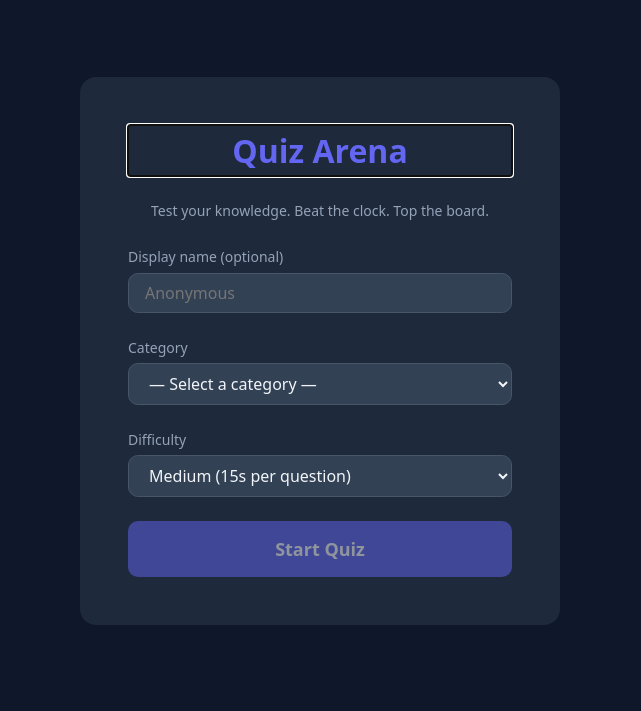
Test: Quiz flow › shows feedback after answering
Select "General Knowledge" in the dropdown labelled "Category" at [320, 384], box [128,363,512,405]
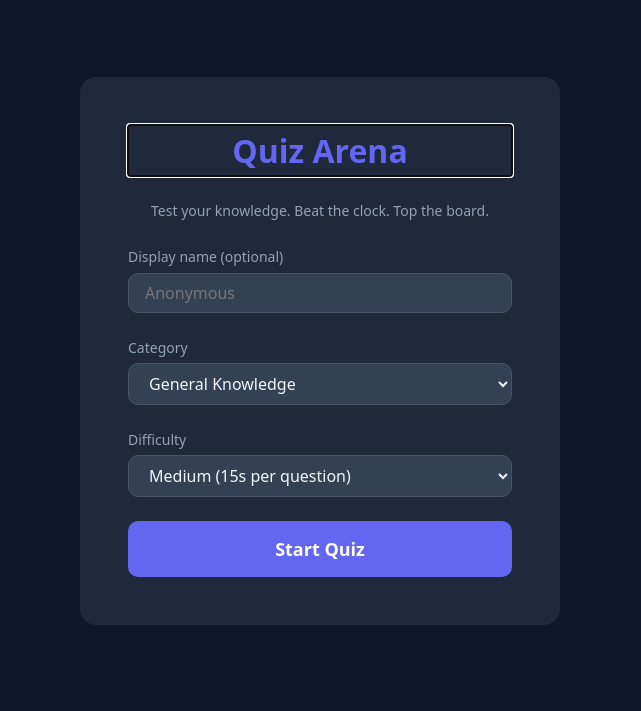
Click the button "Start Quiz" at [320, 549], box [128,521,512,577]
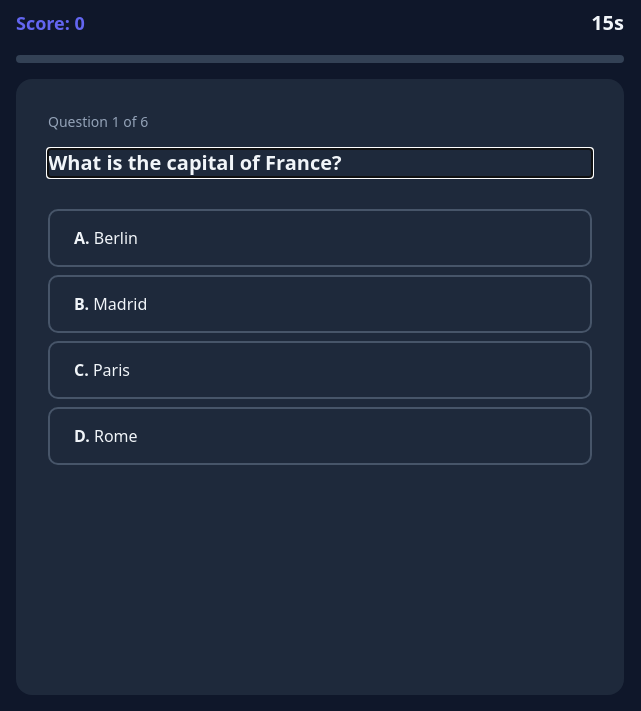
Click the button "A. Berlin" at [116, 238], box [48,209,592,267]
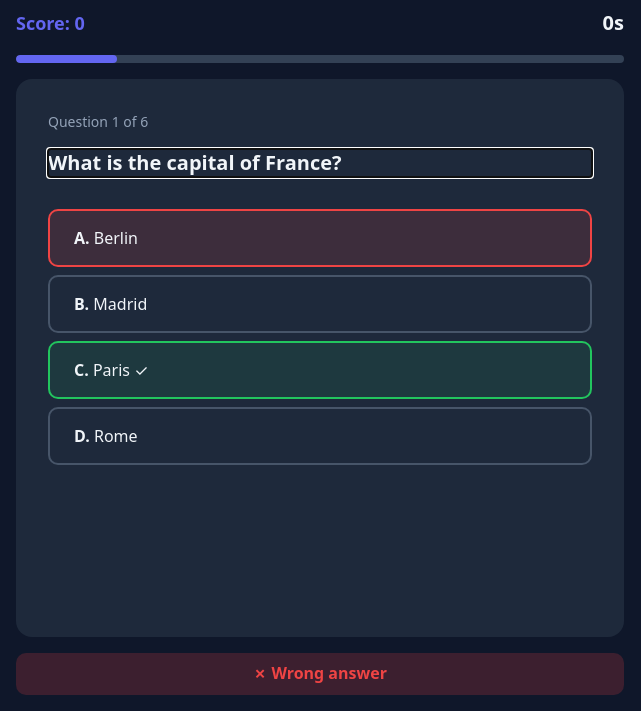
Now the message "✗ Wrong answer" is shown, box [16,653,624,695]
